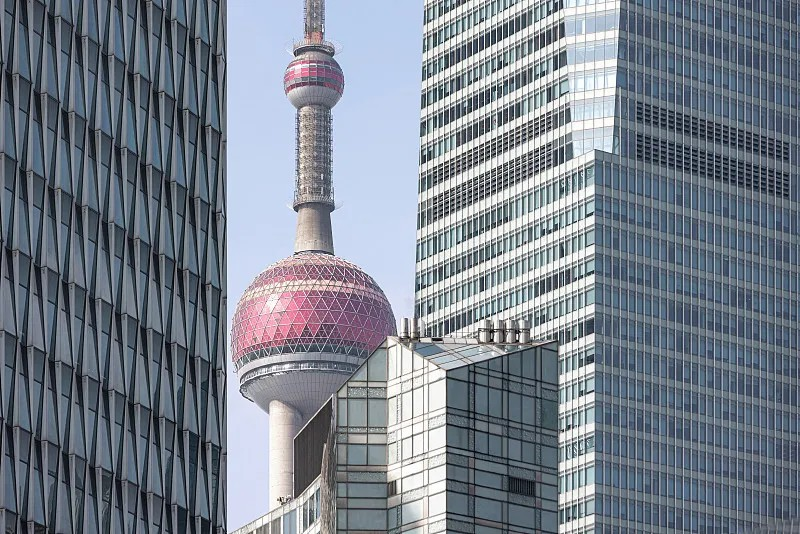Oriental: (232, 1, 398, 512)
